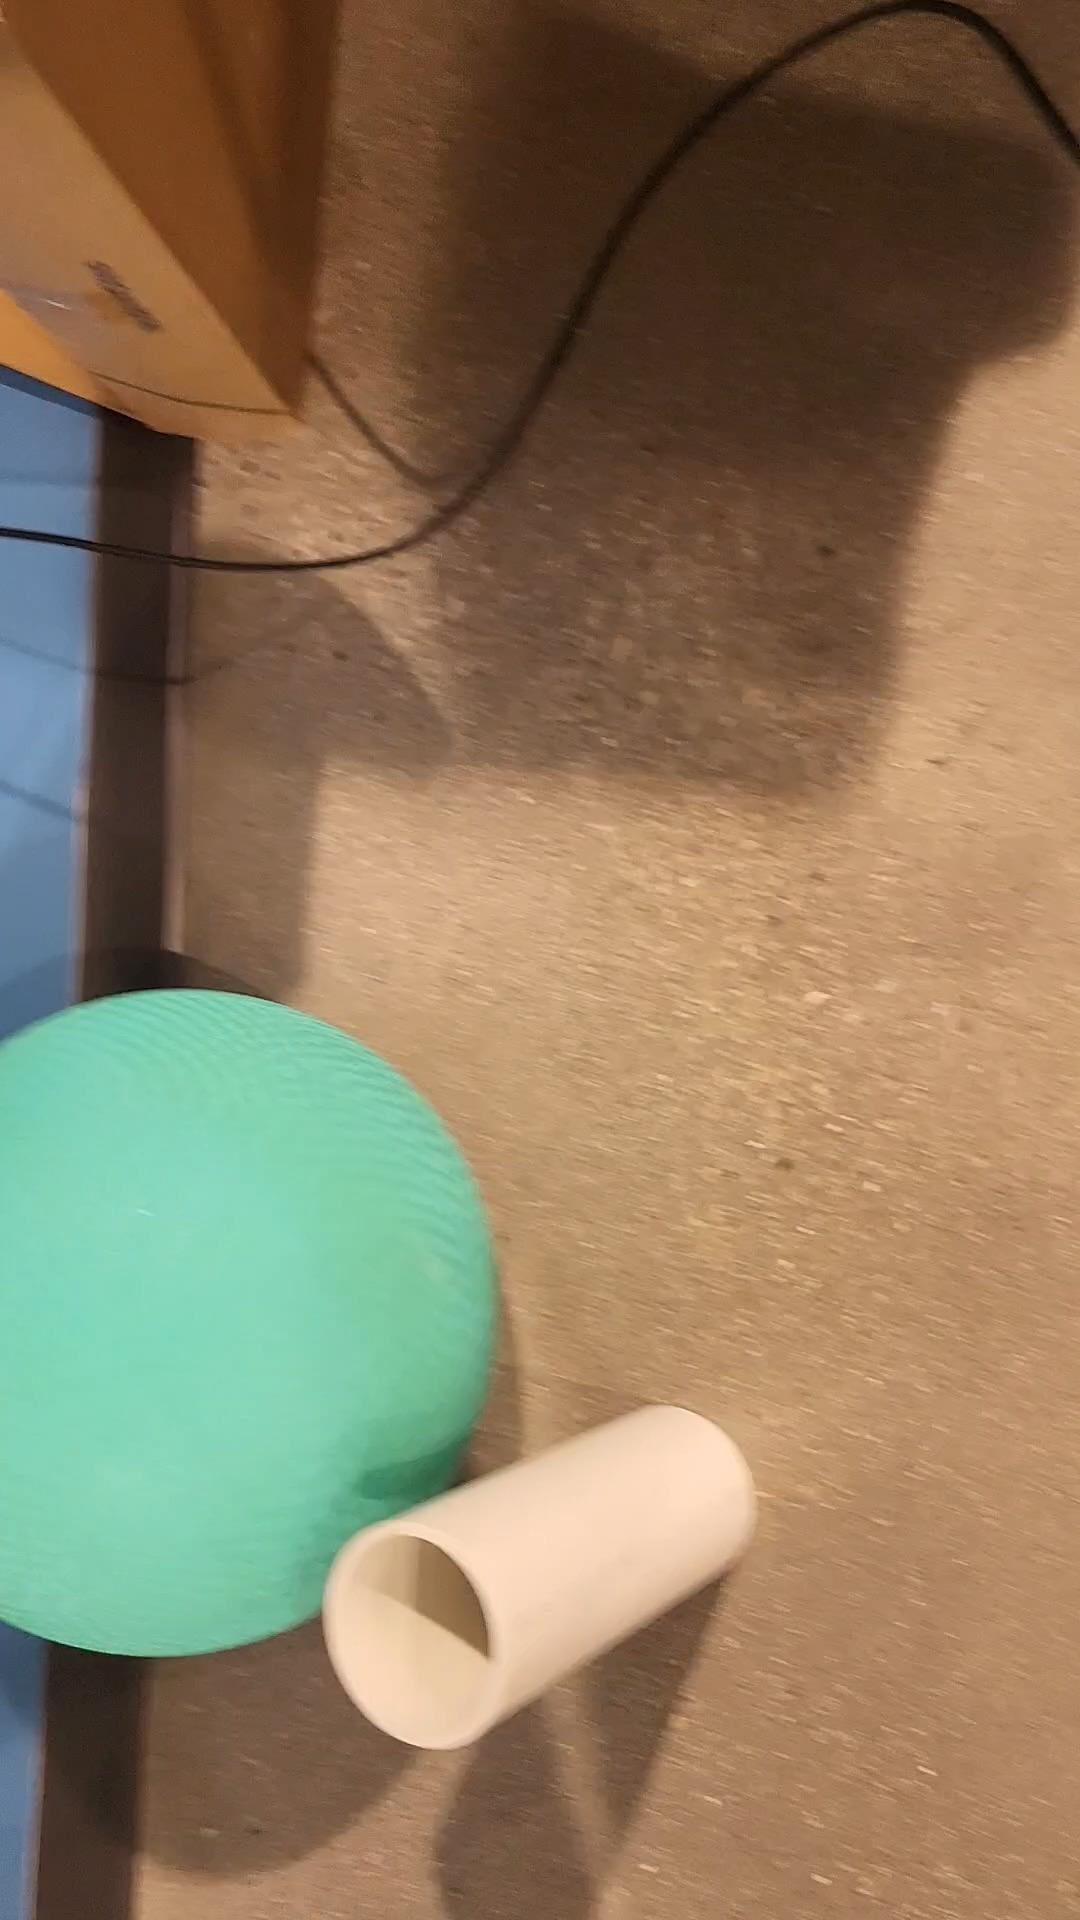algae: (0, 990, 491, 1660)
coral: (324, 1403, 756, 1745)
